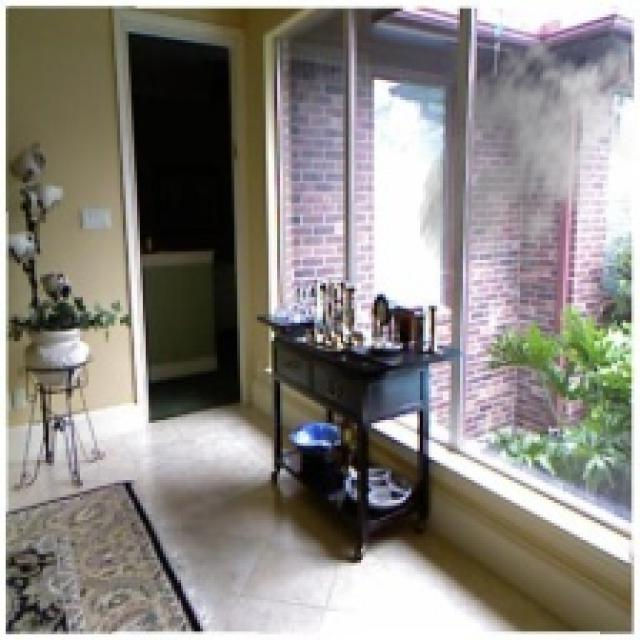smoke: (417, 31, 637, 292)
